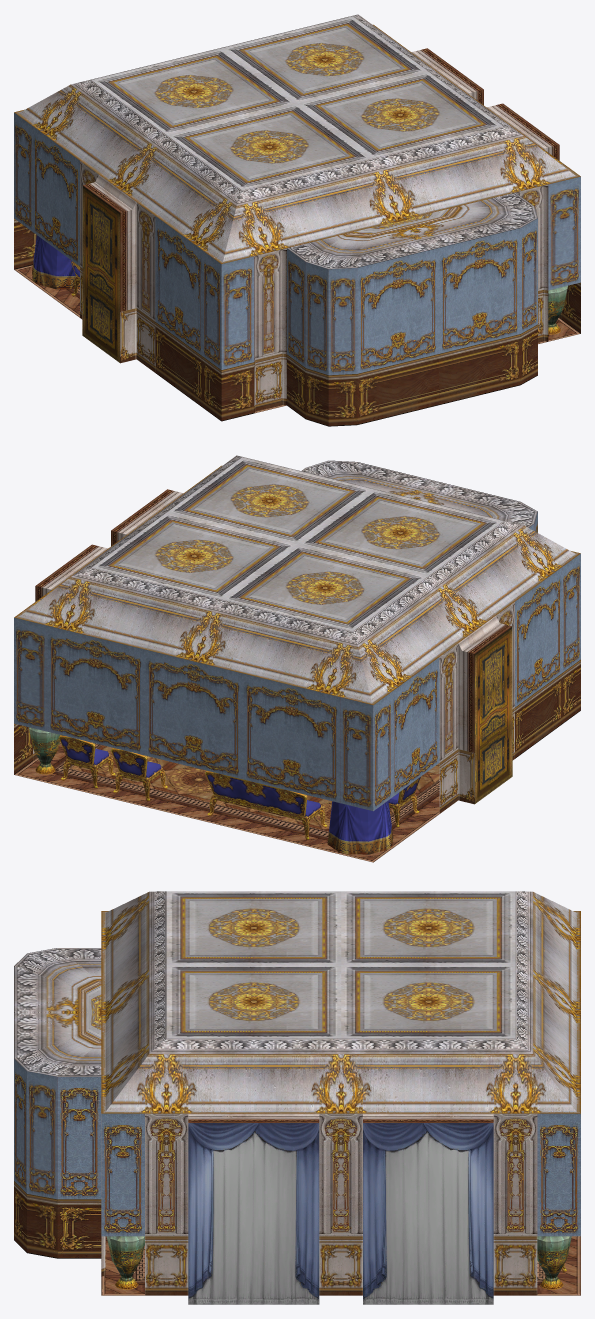
The picture shows the model from 3 angles, top to bottom: view 1: azimuth 30°, elevation 25°; view 2: azimuth 150°, elevation 25°; view 3: azimuth 270°, elevation 25°; orthographic projection. The views are drawn at different scales.
Parts seen in each view (by area): view 1: rd_r4; view 2: rd_r4; view 3: rd_r4.
Part boxes in pixels (bbox=[...]): rd_r4: bbox=[14, 14, 580, 426]; rd_r4: bbox=[14, 455, 580, 862]; rd_r4: bbox=[14, 891, 580, 1304].
Size of the model in its own units: 9 by 4.35 by 9.75.
15 materials, 15 textured.
